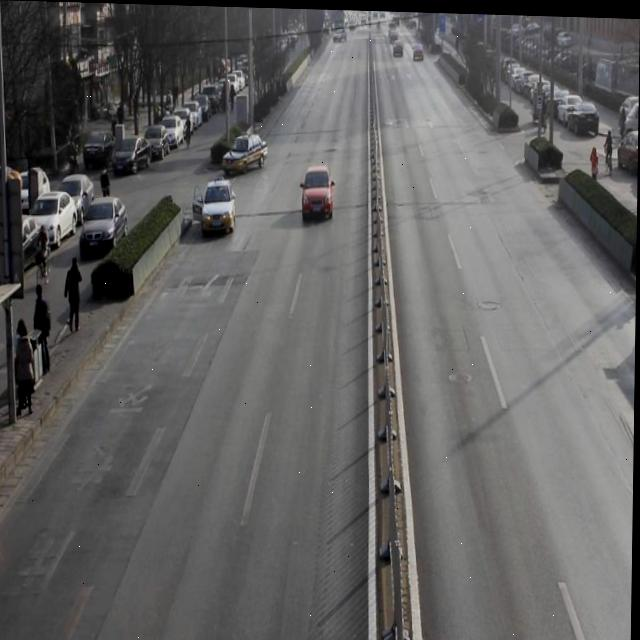car: (199, 171, 237, 237), (299, 157, 335, 223), (224, 126, 271, 171)
